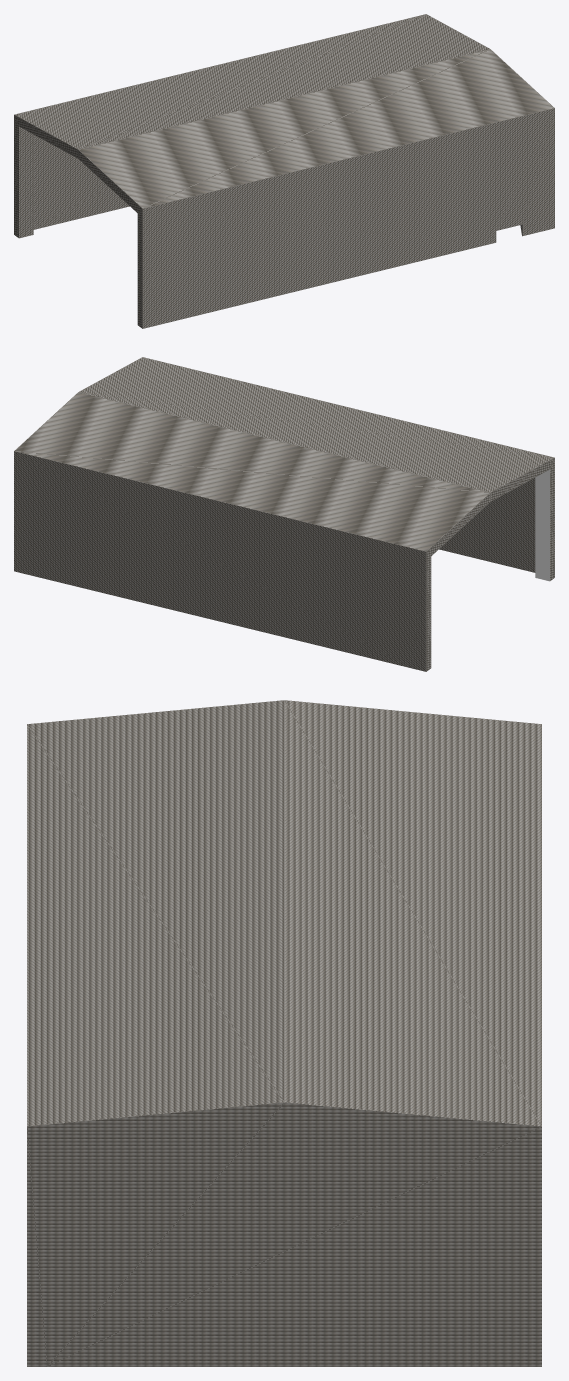
File: L2Hangar.fbx
The picture shows the model from 3 angles, top to bottom: view 1: azimuth 30°, elevation 25°; view 2: azimuth 150°, elevation 25°; view 3: azimuth 270°, elevation 25°; orthographic projection. The views are drawn at different scales.
Visible parts, largest first — view 1: Hangar; view 2: Hangar; view 3: Hangar.
Boxes of the visible parts, x1,y1,x2,y2 form: Hangar: [14, 14, 554, 328]; Hangar: [14, 357, 554, 671]; Hangar: [27, 700, 541, 1366].
Size of the model in its own units: 118 by 36.38 by 64.01.
